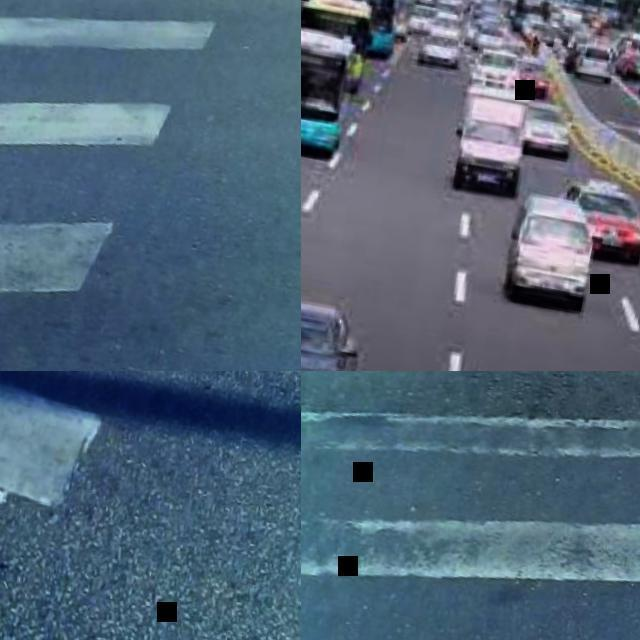car: (505, 169, 590, 310), (303, 1, 370, 161), (407, 0, 492, 66), (576, 181, 640, 261)
